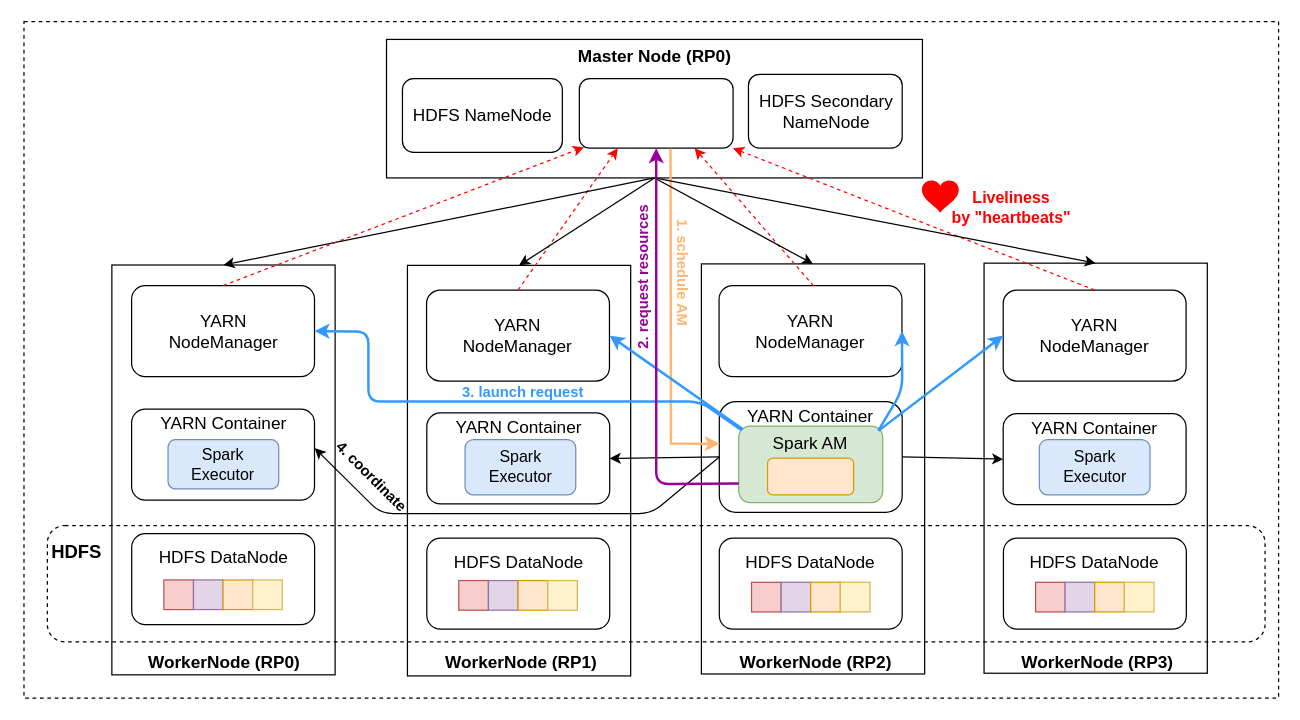
Some shapes in this 1300 by 720 pixel diagram are drawn without their labels. Each missing label, with the box of its shape:
Spark Driver: (766, 457, 854, 495)
YARN Resource Manager: (578, 77, 733, 148)
